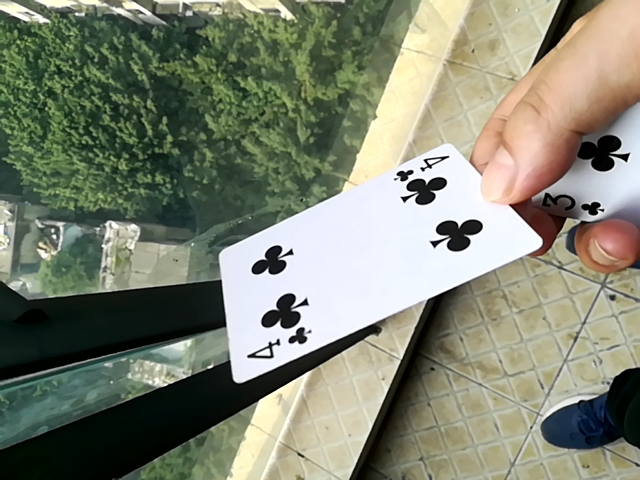mh 4: (214, 139, 540, 379)
